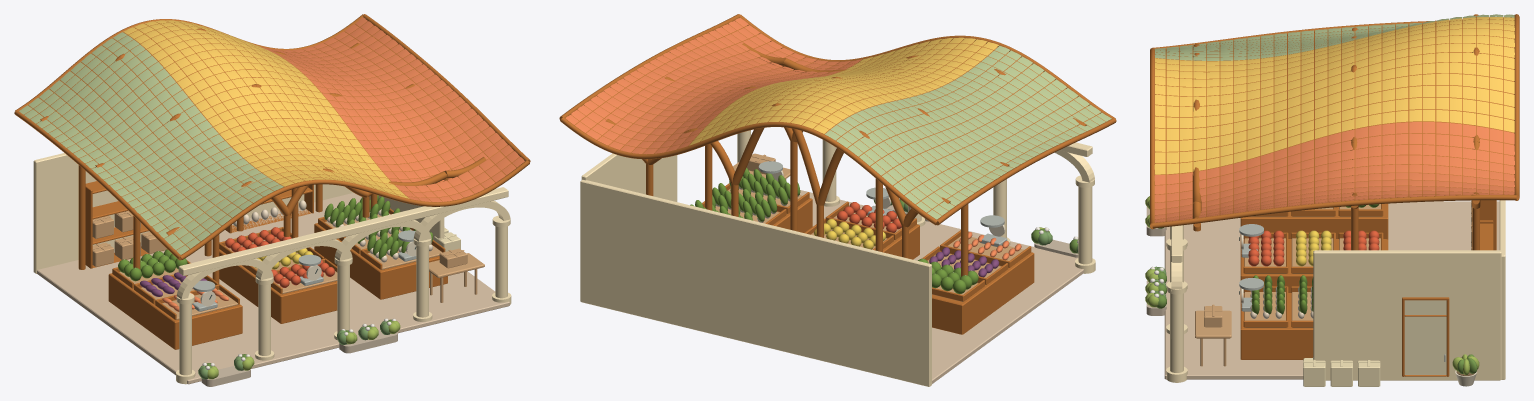
3 views of the same model, side by side, from view 1: azimuth 30°, elevation 25°; view 2: azimuth 150°, elevation 25°; view 3: azimuth 270°, elevation 25° (orthographic). The views are drawn at different scales.
Visible parts, largest first — view 1: R 波浪陶片, S 市场室内地面, R 连续曲面木底, I 木摊台, A 后勤低墙, R 波浪檐唇, A 拱廊圆柱, A 拱廊顶带, A 奶油拱券, I 礼盒, A 木柱, I 叶菜叶 (+17 smaller); view 2: R 波浪陶片, A 后勤低墙, R 连续曲面木底, S 市场室内地面, R 波浪檐唇, I 木摊台, A 分枝弧肋, A 木柱, A 右后勤侧墙, A 拱廊圆柱, I 叶菜叶, I 水果 (+9 smaller); view 3: R 波浪陶片, A 右后勤侧墙, S 市场室内地面, R 连续曲面木底, I 木摊台, R 波浪檐唇, I 水果, I 礼盒, I 果箱边框, I 分类托盘, A 拱廊圆柱, I 叶菜叶 (+17 smaller).
Part boxes in pixels (x1,y1,x2,y2): R 波浪陶片: [19, 17, 524, 254]; S 市场室内地面: [37, 193, 509, 384]; R 连续曲面木底: [24, 22, 519, 250]; I 木摊台: [108, 223, 447, 349]; A 后勤低墙: [33, 153, 353, 273]; R 波浪檐唇: [14, 14, 530, 260]; A 拱廊圆柱: [179, 226, 507, 375]; A 拱廊顶带: [178, 187, 508, 275]; A 奶油拱券: [176, 200, 510, 301]; I 礼盒: [92, 210, 467, 268]; A 木柱: [78, 165, 448, 283]; I 叶菜叶: [324, 195, 433, 259]; R 波浪陶片: [565, 17, 1111, 219]; A 后勤低墙: [580, 179, 931, 386]; R 连续曲面木底: [571, 21, 1105, 215]; S 市场室内地面: [800, 190, 1083, 383]; R 波浪檐唇: [559, 14, 1116, 225]; I 木摊台: [772, 198, 1034, 334]; A 分枝弧肋: [605, 43, 1086, 227]; A 木柱: [646, 61, 968, 276]; A 右后勤侧墙: [581, 153, 677, 201]; A 拱廊圆柱: [737, 130, 1092, 264]; I 叶菜叶: [690, 167, 800, 221]; I 水果: [813, 202, 901, 249]; R 波浪陶片: [1154, 14, 1514, 222]; A 右后勤侧墙: [1313, 250, 1501, 380]; S 市场室内地面: [1164, 201, 1499, 379]; R 连续曲面木底: [1155, 17, 1513, 222]; I 木摊台: [1240, 203, 1388, 359]; R 波浪檐唇: [1150, 14, 1519, 229]; I 水果: [1248, 230, 1379, 266]; I 礼盒: [1204, 200, 1472, 386]; I 果箱边框: [1243, 209, 1383, 327]; I 分类托盘: [1244, 204, 1381, 327]; A 拱廊圆柱: [1170, 225, 1183, 372]; I 叶菜叶: [1252, 275, 1313, 314].
Size of the model in its own units: 22.41 by 13.37 by 18.5.
